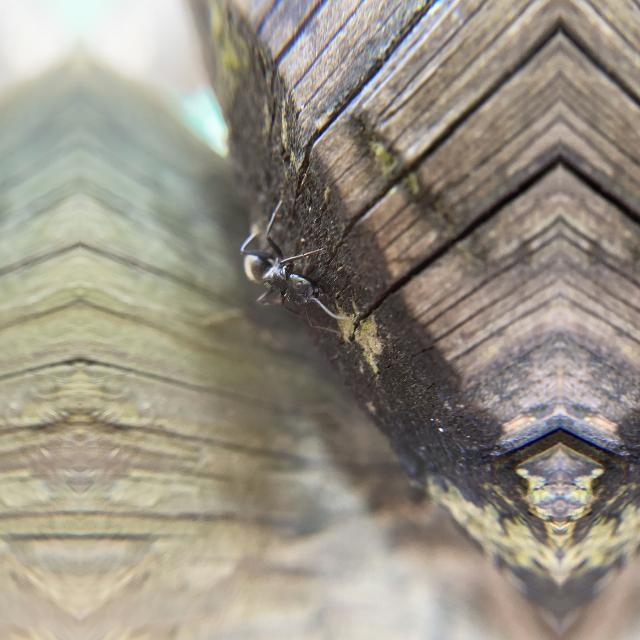Camponotus: (218, 218, 354, 334)
